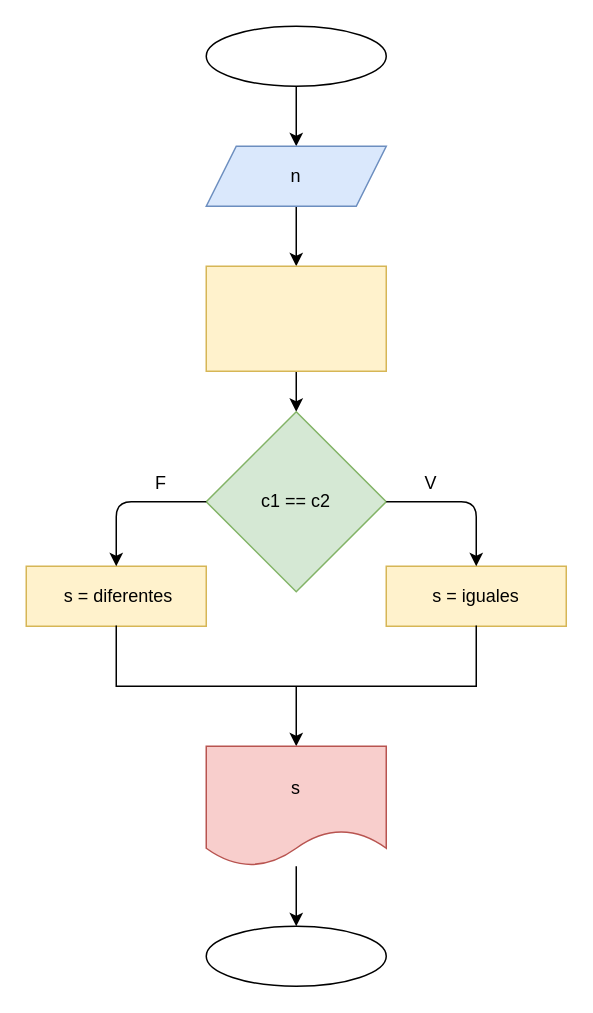
The diagram is 593 pixels wide and 1013 high, and some of its shapes have lost their labels. The centre of each missing label's shape, as x and y in pixels:
c1 = n % 10 c2 = ((n % 100) - c1) // 10: the point at 295,318
FIN: the point at 295,955
INICIO: the point at 295,55
